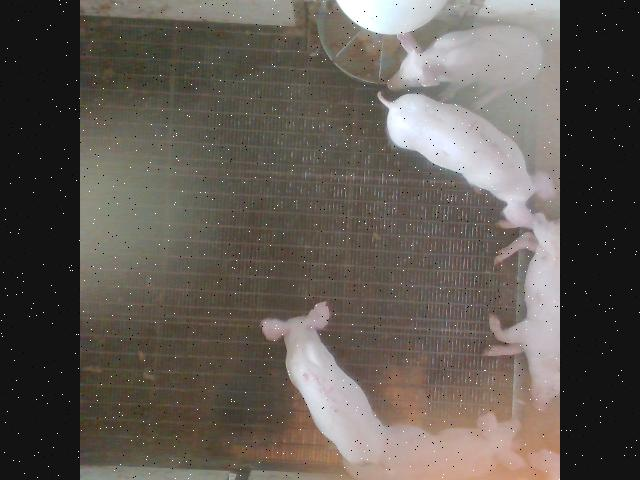pig-3: (379, 92, 554, 228)
pig-4: (342, 411, 526, 480)
pig-5: (262, 301, 385, 462)
